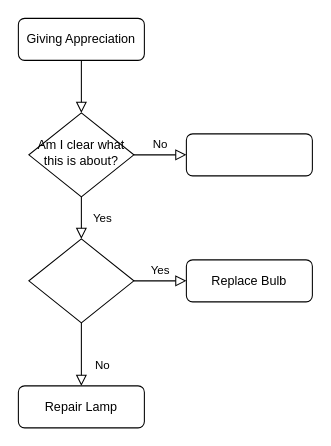
Some shapes in this 331 by 446 pixel diagram are drawn without their labels. The centre of each missing label's shape, as x and y in pixels:
"Bulb burned out?" goes at point 81,280.
"Clarify Observations" goes at point 248,154.
